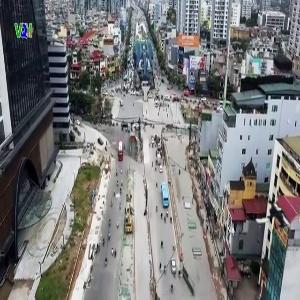drone: (253, 195, 295, 237)
